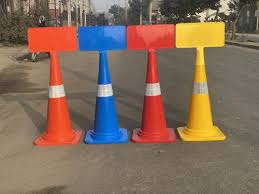cones: (174, 45, 227, 143), (79, 49, 130, 148), (132, 49, 180, 147), (35, 50, 81, 145)
